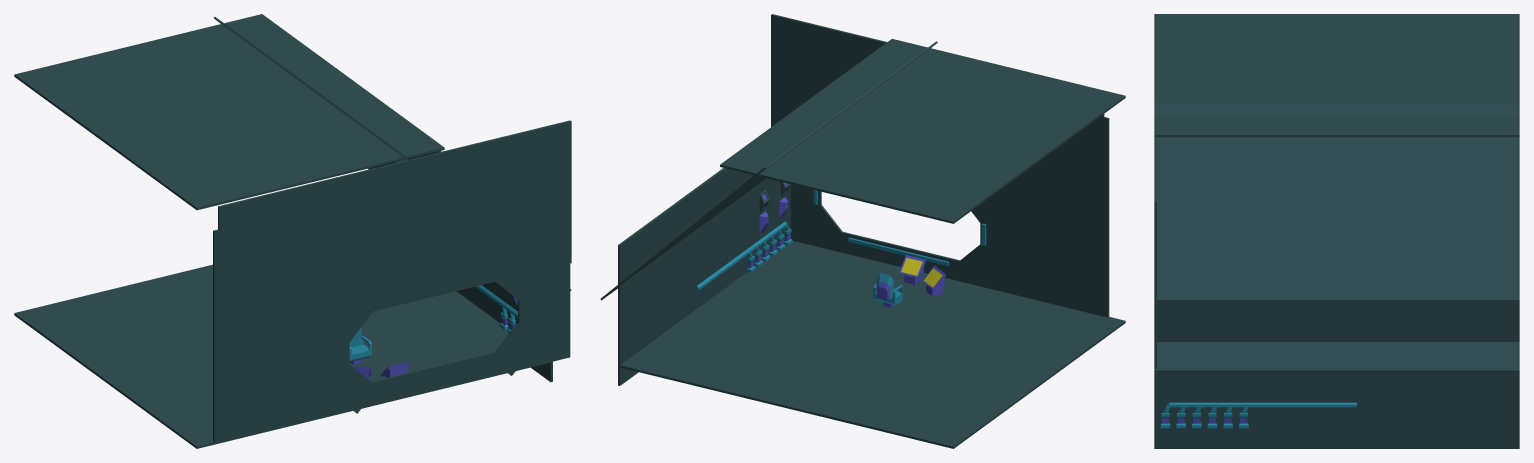
The model's file is spaceship_variant.glb.
The picture shows the model from 3 angles, left to right: view 1: azimuth 30°, elevation 25°; view 2: azimuth 150°, elevation 25°; view 3: azimuth 270°, elevation 25°; orthographic projection. The views are drawn at different scales.
Parts seen in each view (by area): view 1: roof_flatCenter (×12); view 2: roof_flatCenter (×10), trunk; view 3: roof_flatCenter (×4), trunk.
Boxes of the visible parts, x1,y1,x2,y2 form: roof_flatCenter (×12): [14, 14, 571, 448]; roof_flatCenter (×10): [600, 14, 1125, 448]; trunk: [696, 223, 783, 291]; roof_flatCenter (×4): [1154, 14, 1519, 448]; trunk: [1175, 402, 1356, 407].
Bounding box in the file's own units: 16.6 × 11.41 × 14.
